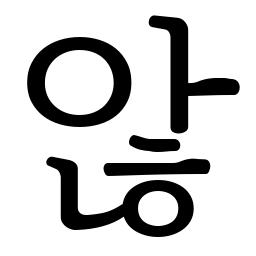Gaji: (158, 72, 208, 110)
